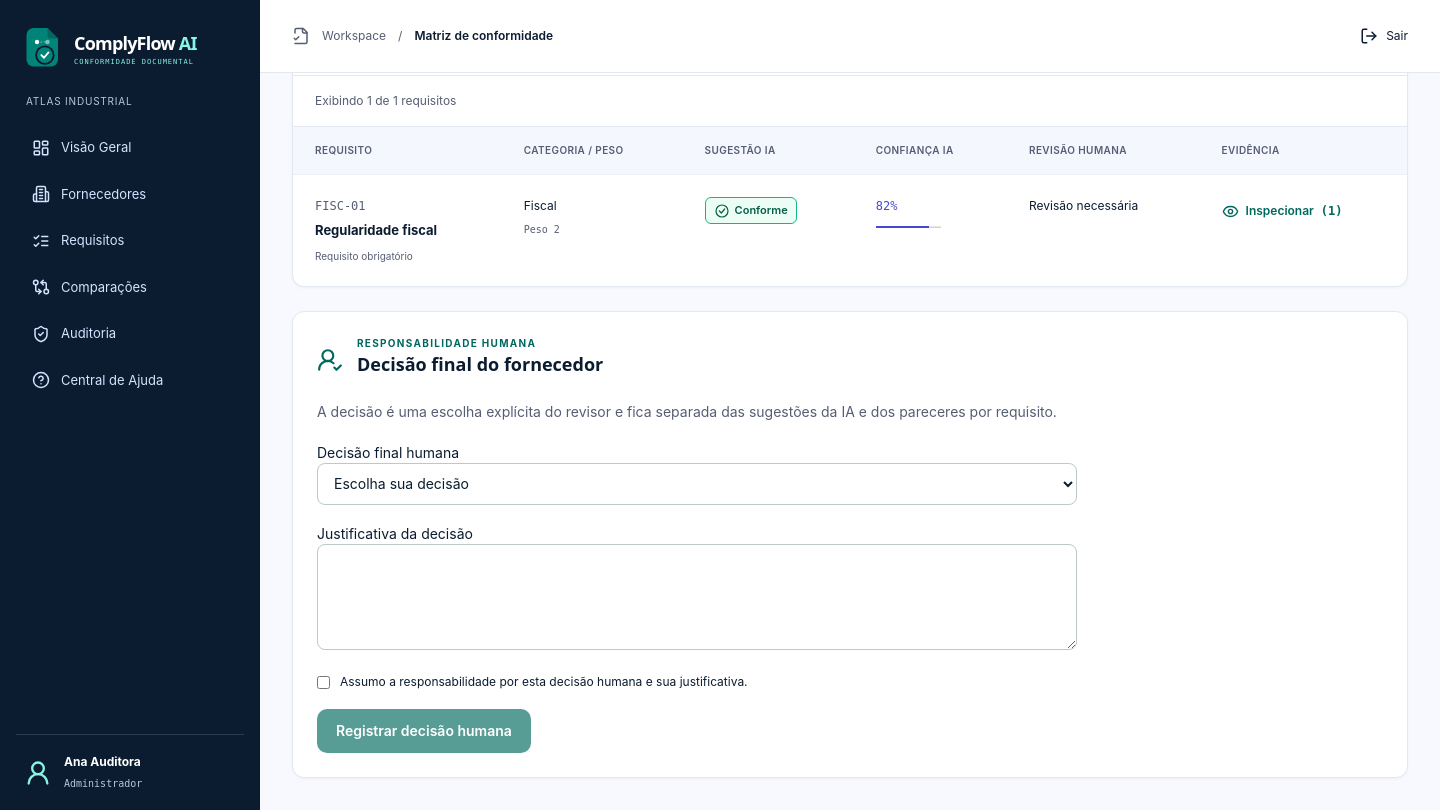
Test: Human decision journey › shows safe 403 errors and preserves the reason
This screenshot has width=1440, height=810.
(page scrolled)
Select "Reprovar" in the dropdown labelled "Decisão final humana" at [697, 484], box [317,463,1077,505]
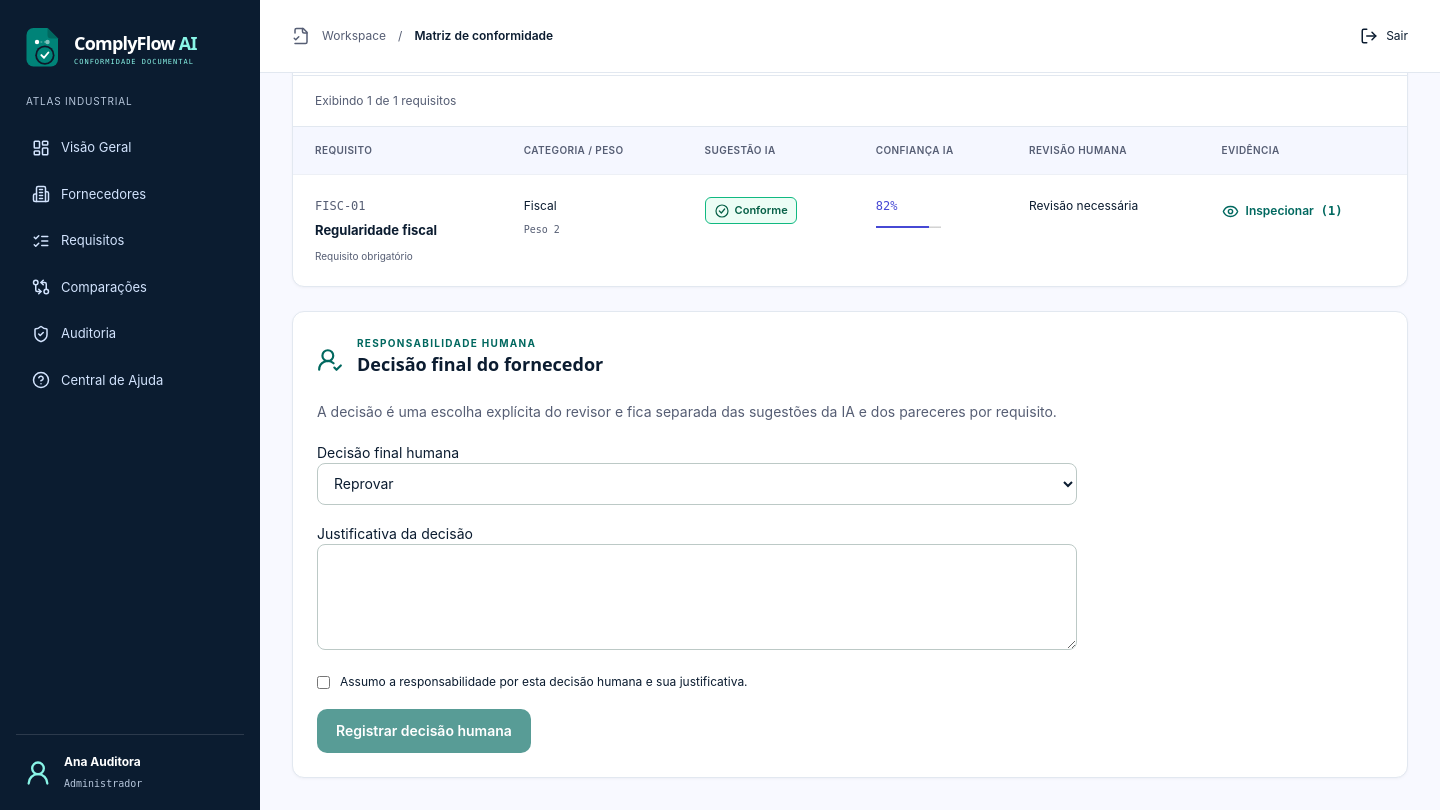
Type "Rascunho humano." into the text box labelled "Justificativa da decisão".
click(697, 597); type("Rascunho humano.")  # box [317,544,1077,650]
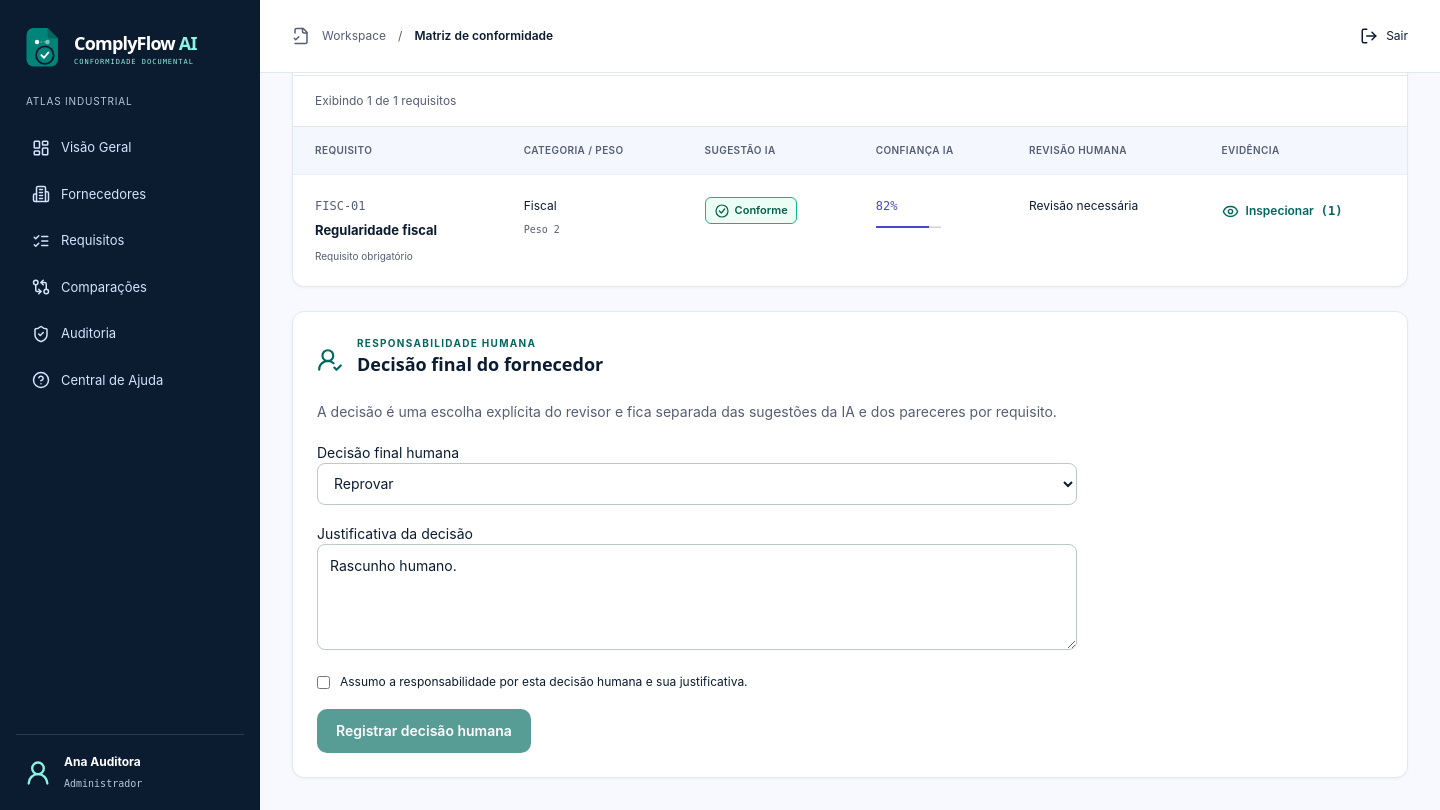
Click the checkbox labelled "Assumo a responsabilidade".
click(324, 682)  # box [317,676,330,689]
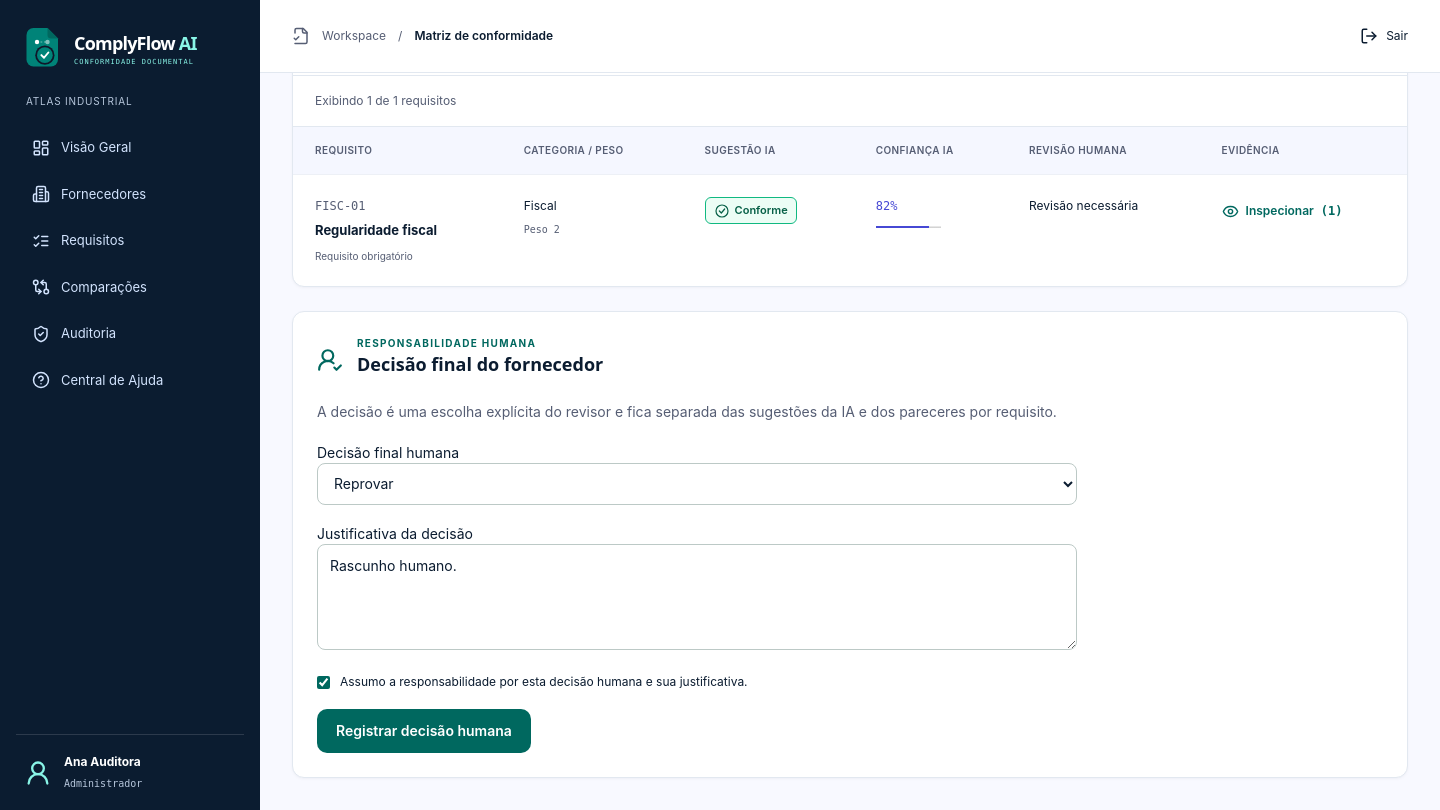
Click the button "Registrar decisão humana".
click(424, 731)  # box [317,709,531,753]
(page scrolled)
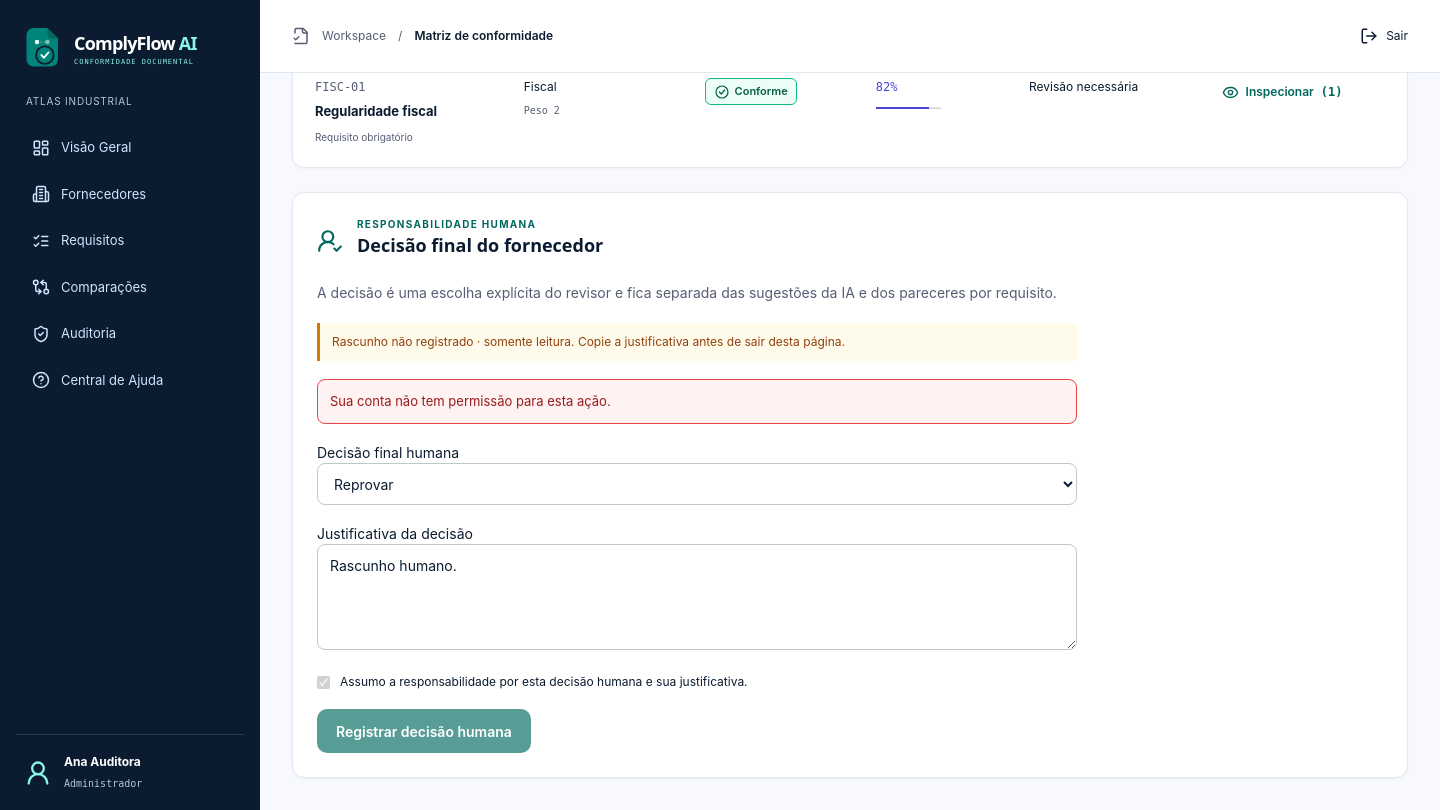
Now the message "Sua conta não tem permissão para esta ação." is shown, box [317,379,1077,424]
Now the button "Registrar decisão humana" is disabled, box [317,709,531,753]
